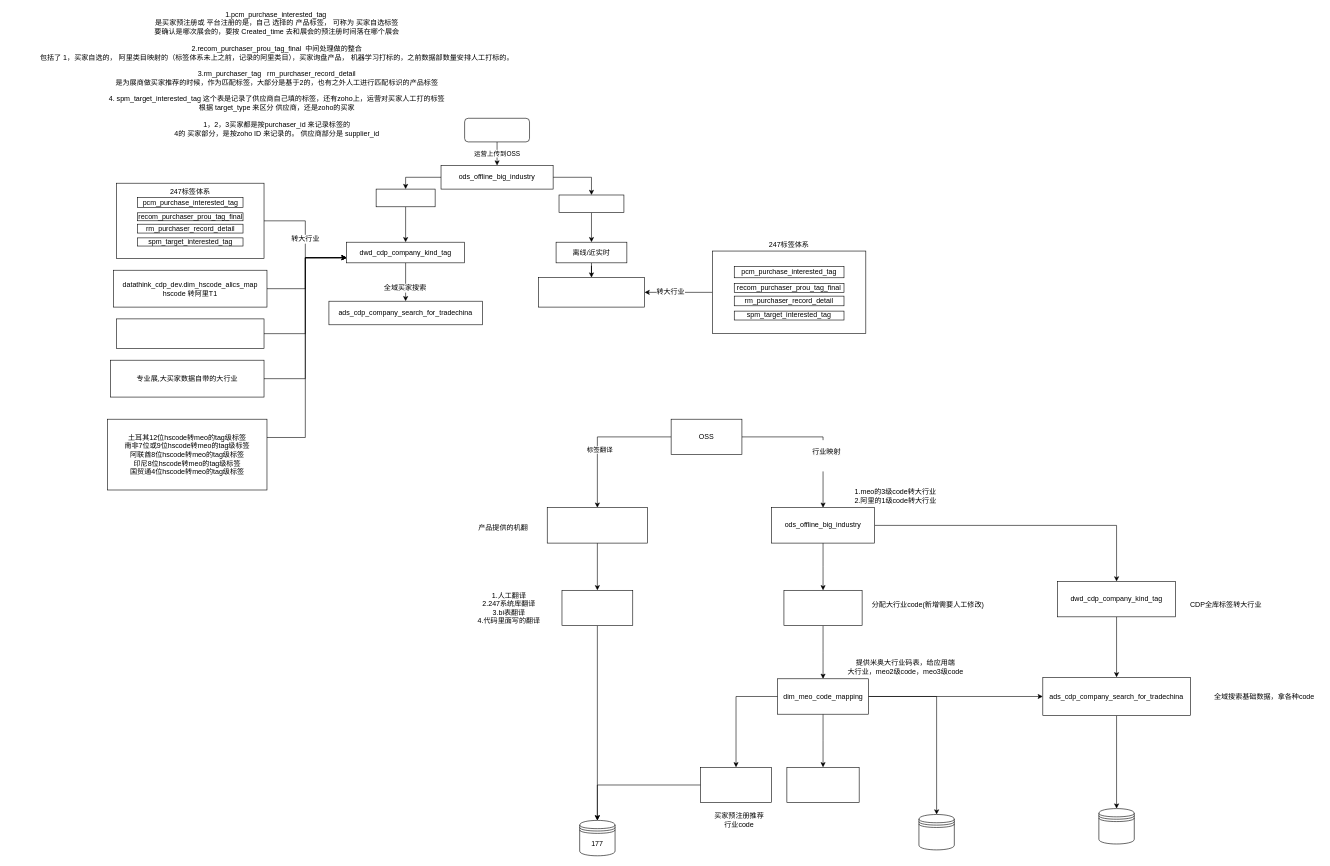
The diagram is 1330 pixels wide and 866 high, and some of its shapes have lost their labels. Here are the shapes that lost their labels. From the top down, the centre of each, then its label:
pixel 497 130: 开始
pixel 405 198: CDP买家仓库
pixel 591 203: 维度建模报表
pixel 591 292: dim_247_buyers_tag dim_247_buyers_tag_min
pixel 190 333: datathink_cdp_dev.dim_naics_alics_map naics-阿里行业
pixel 597 525: ods_offline_tag_language
pixel 597 608: dim_tag_language
pixel 822 608: dim_big_industry
pixel 735 785: ads_exhibition_tag
pixel 822 785: 其余可查血缘依赖
pixel 936 832: 探客
pixel 1116 826: es
